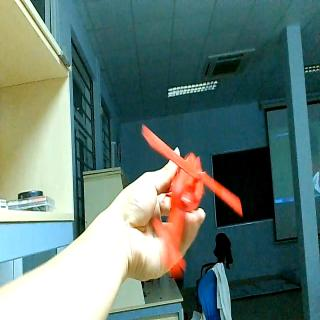Helicopter: (153, 121, 242, 277)
